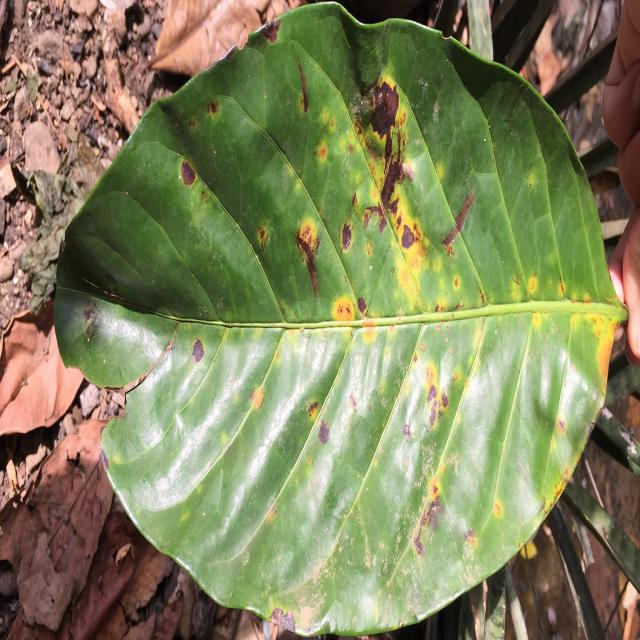Enfermedad-Mancha-de-hierro: (54, 7, 625, 636)
